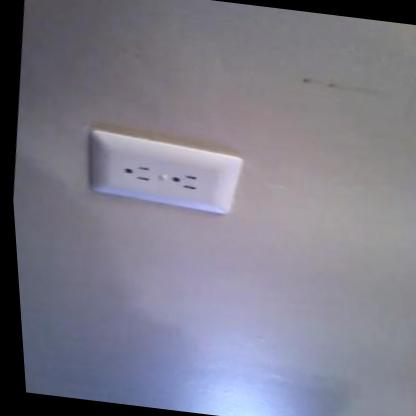OUTLET: (85, 130, 248, 212)
